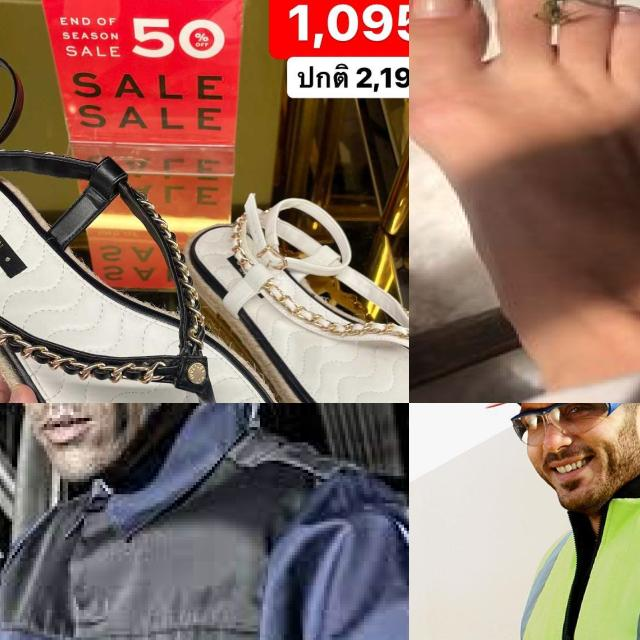Barefoots: (409, 0, 640, 390)
Sandals: (0, 29, 308, 403), (179, 165, 409, 403)
face_nomask: (505, 403, 640, 507)
glasses: (506, 403, 622, 447)
person: (440, 403, 640, 640)
vest: (492, 481, 640, 640)
